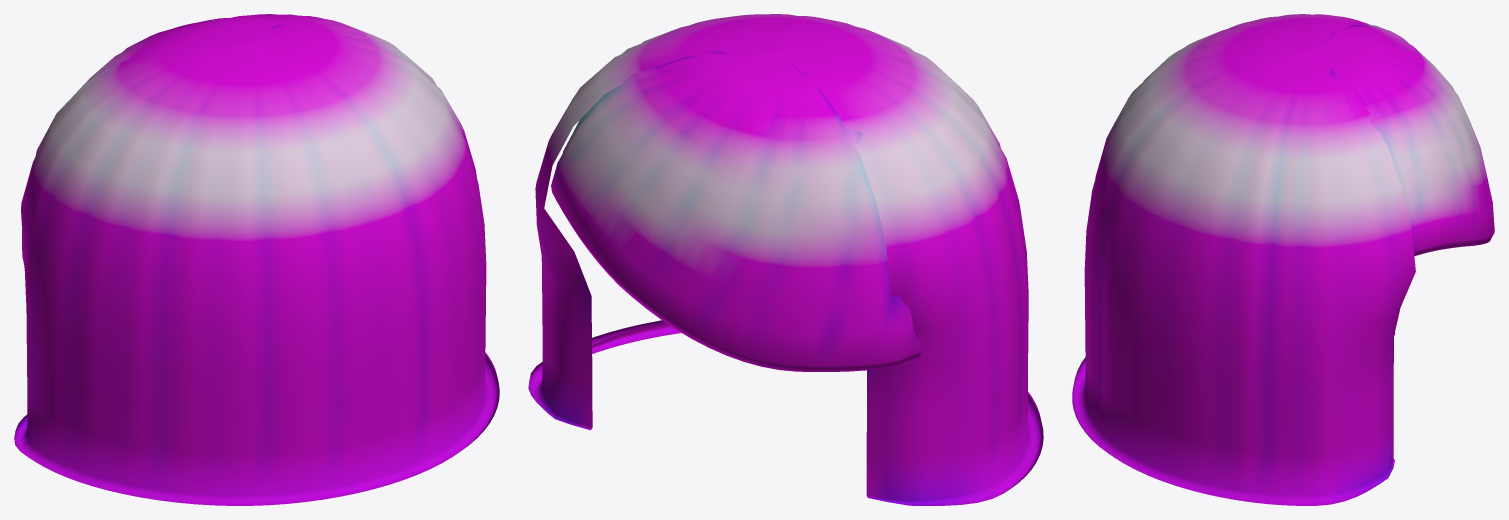
File: side_mid.glb
The picture shows the model from 3 angles, left to right: view 1: azimuth 30°, elevation 25°; view 2: azimuth 150°, elevation 25°; view 3: azimuth 270°, elevation 25°; orthographic projection. The views are drawn at different scales.
Parts seen in each view (by area): view 1: side; view 2: side; view 3: side.
Part boxes in pixels (bbox=[...]): side: bbox=[14, 14, 499, 505]; side: bbox=[528, 14, 1043, 505]; side: bbox=[1072, 14, 1494, 505].
Size of the model in its own units: 1.16 by 0.8965 by 0.9744.
